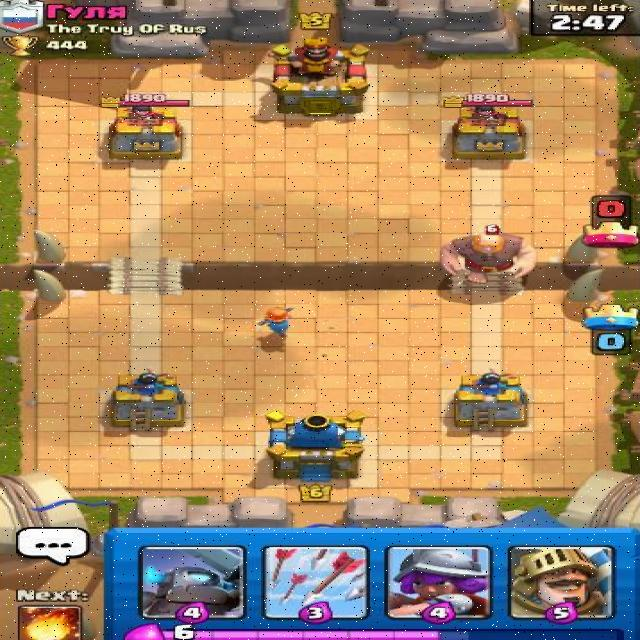Enemy-Giant: (434, 222, 540, 285)
Player-Valkyrie: (256, 304, 296, 340)
